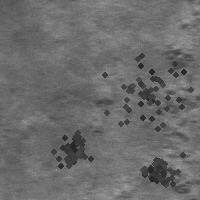rolled-in_scale: (89, 32, 200, 152), (140, 80, 199, 197), (24, 84, 124, 140), (159, 7, 200, 83), (46, 125, 94, 173), (132, 148, 176, 192)
